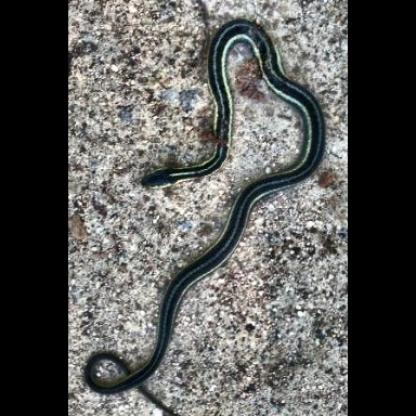Snake: (88, 17, 324, 398)
